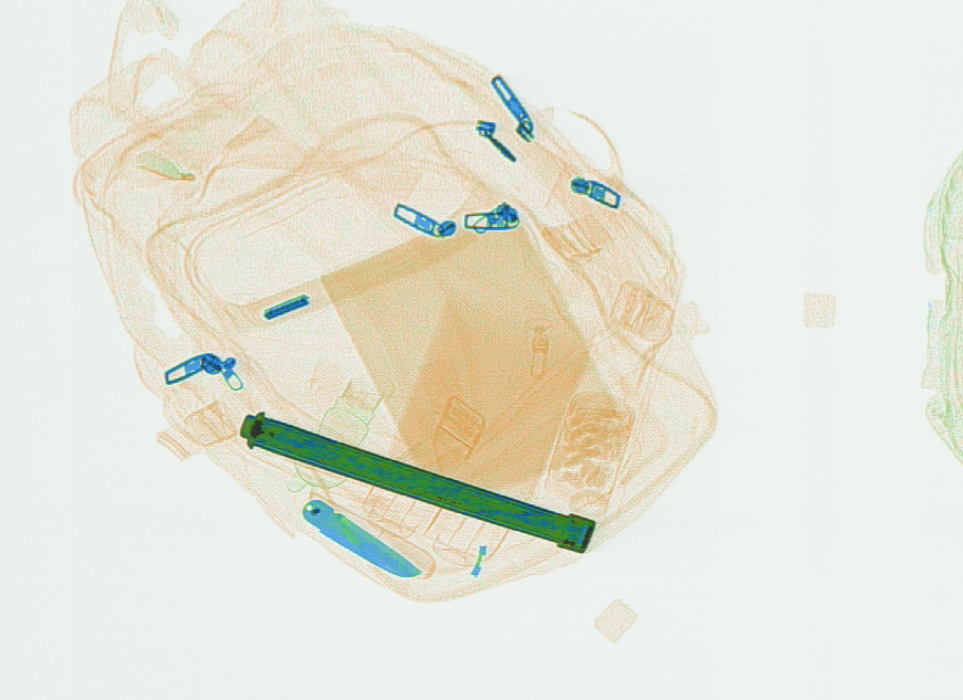knife: (299, 491, 437, 587)
